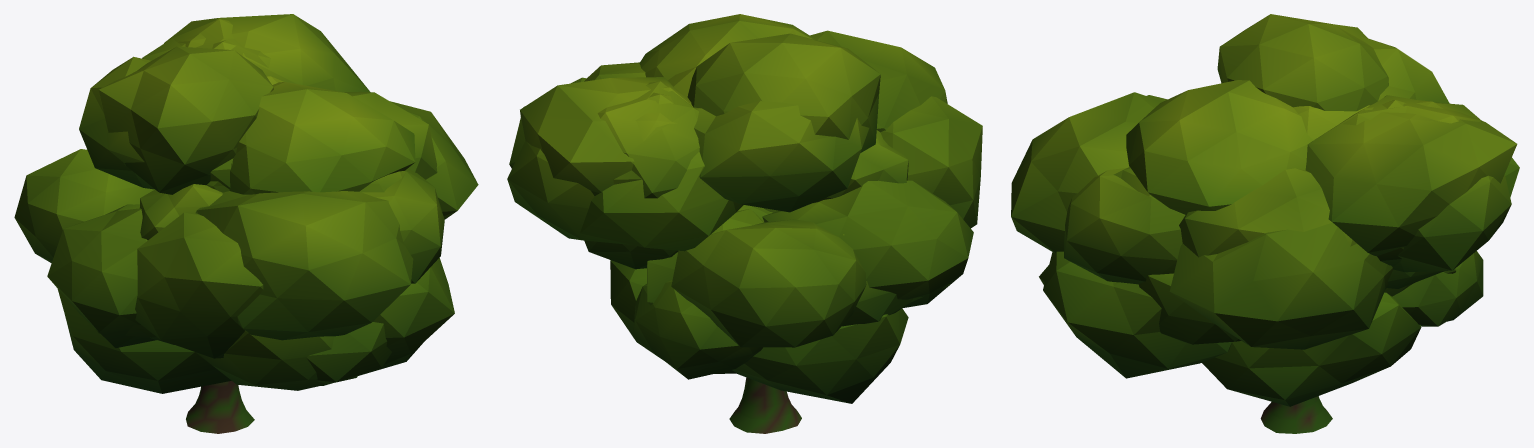
File: bigleaf-maple-c.glb
The picture shows the model from 3 angles, left to right: view 1: azimuth 30°, elevation 25°; view 2: azimuth 150°, elevation 25°; view 3: azimuth 270°, elevation 25°; orthographic projection. The views are drawn at different scales.
Visible parts, largest first — view 1: bigleaf-maple-c.Leaves, bigleaf-maple-c.Bark; view 2: bigleaf-maple-c.Leaves, bigleaf-maple-c.Bark; view 3: bigleaf-maple-c.Leaves, bigleaf-maple-c.Bark.
Boxes of the visible parts, box(x1,y1,x2,y2) form: bigleaf-maple-c.Leaves: box(14, 14, 478, 393); bigleaf-maple-c.Bark: box(186, 381, 254, 433); bigleaf-maple-c.Leaves: box(507, 14, 982, 403); bigleaf-maple-c.Bark: box(729, 377, 801, 433); bigleaf-maple-c.Leaves: box(1011, 14, 1519, 406); bigleaf-maple-c.Bark: box(1260, 396, 1332, 433).
Bounding box in the file's own units: 13.96 × 12.01 × 14.44.
